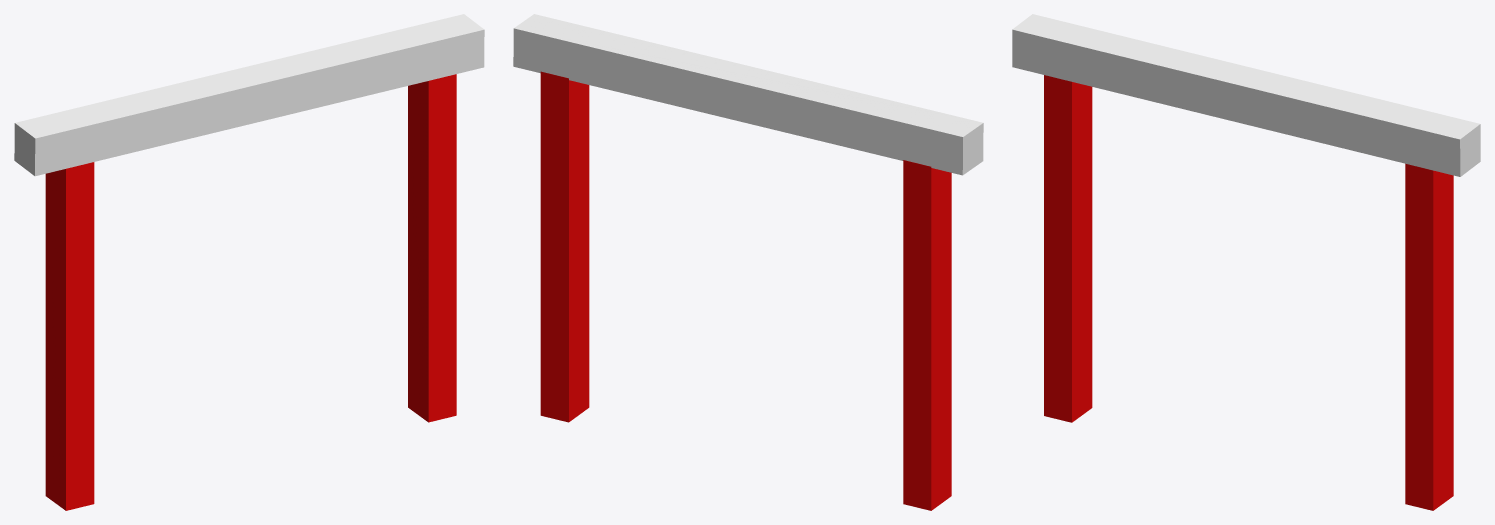
Rendered from hurdle.glb.
3 renders of one model, left to right at view 1: azimuth 30°, elevation 25°; view 2: azimuth 150°, elevation 25°; view 3: azimuth 330°, elevation 25°, orthographic.
Visible parts, largest first — view 1: Cube.002, Cube, Cube.001; view 2: Cube.002, Cube.001, Cube; view 3: Cube.002, Cube, Cube.001.
Boxes of the visible parts, x1,y1,x2,y2 form: Cube.002: (14,14,484,176); Cube: (45,162,94,510); Cube.001: (408,74,456,422); Cube.002: (513,14,983,175); Cube.001: (540,71,589,422); Cube: (903,160,951,510); Cube.002: (1012,14,1480,176); Cube: (1044,75,1092,422); Cube.001: (1405,163,1453,510).
Bounding box in the file's own units: 1.16 × 0.9409 × 0.0937.
3 materials, 3 textured.
